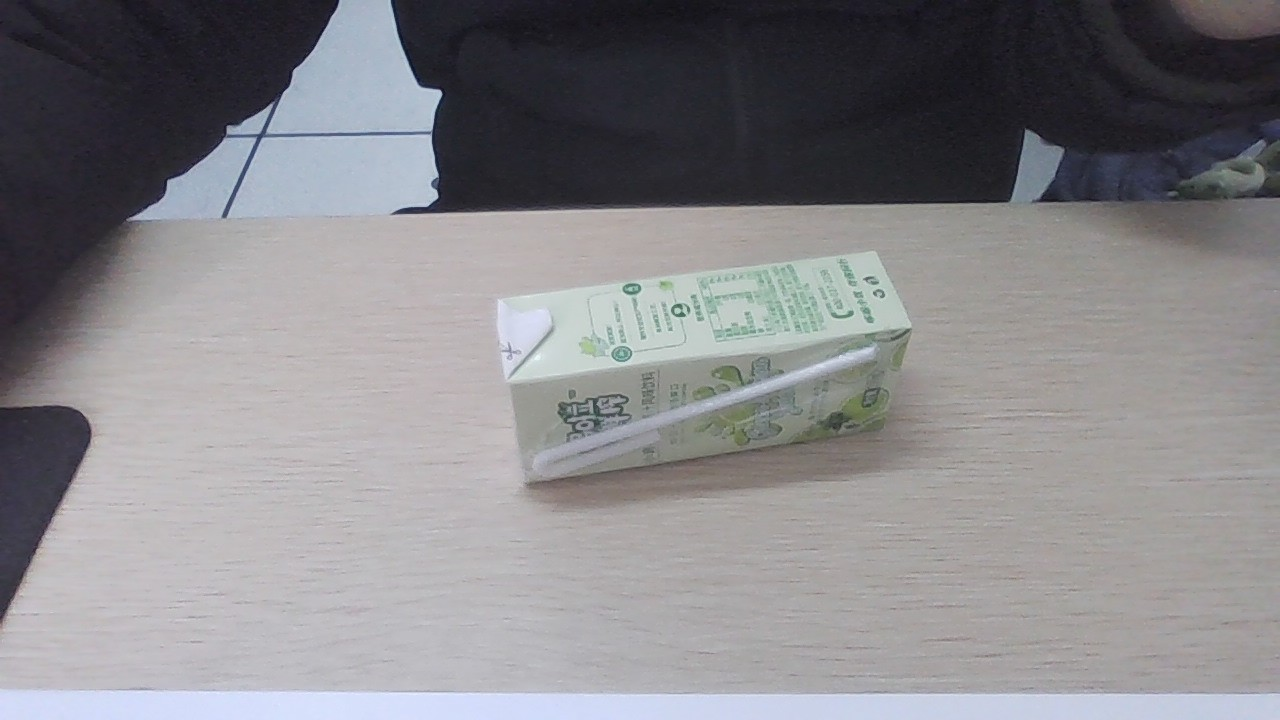CY-drink: (493, 255, 908, 484)
